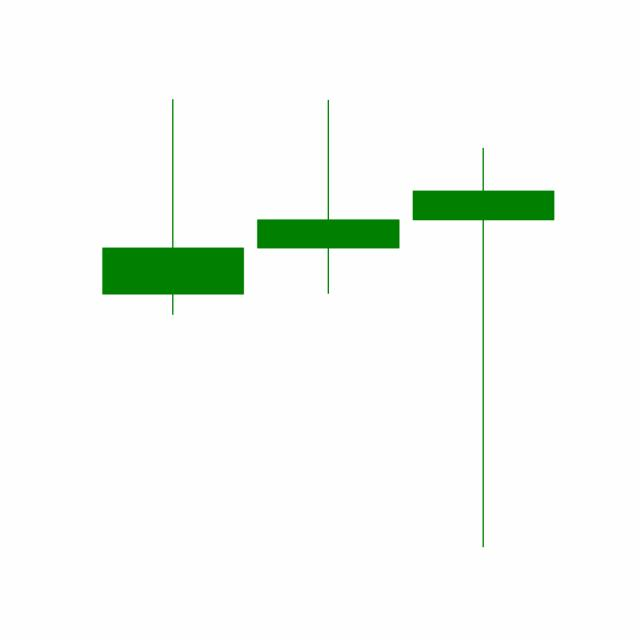Spinning Top: (249, 97, 406, 296)
